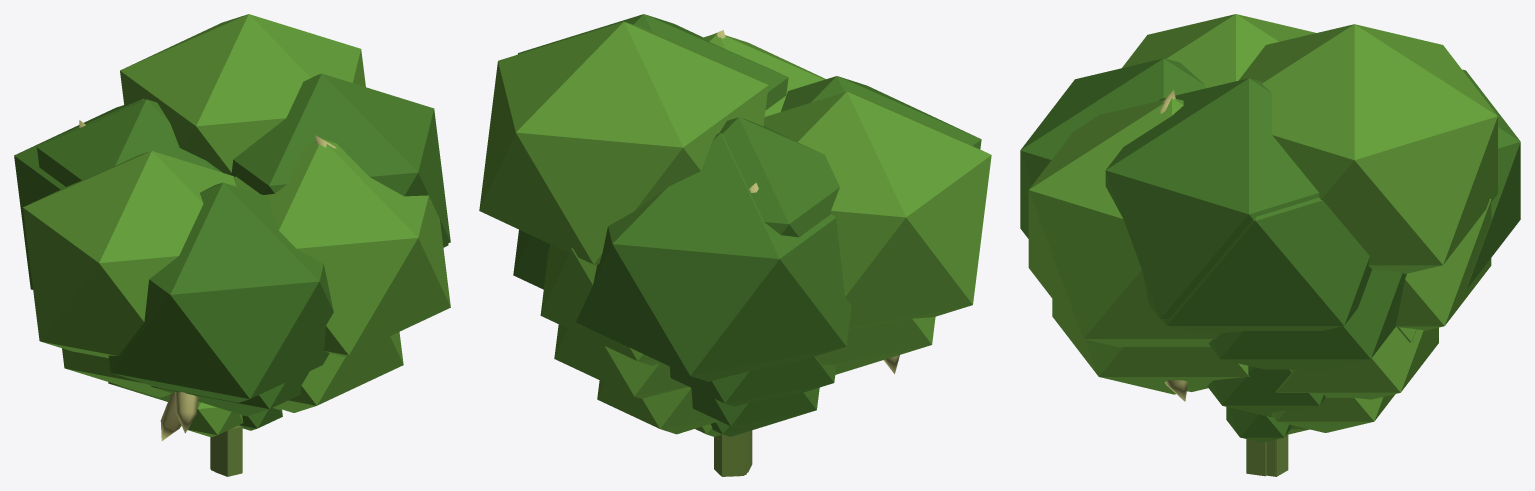
The model's file is Crop_Veg_Lentil.fbx.
3 views of the same model, side by side, from view 1: azimuth 30°, elevation 25°; view 2: azimuth 150°, elevation 25°; view 3: azimuth 270°, elevation 25° (orthographic). The views are drawn at different scales.
Parts seen in each view (by area): view 1: Crop_Veg_Lentil__S4, Crop_Veg_Lentil__S3, Crop_Veg_Lentil__S1; view 2: Crop_Veg_Lentil__S4, Crop_Veg_Lentil__S3, Crop_Veg_Lentil__S5, Crop_Veg_Lentil__S2, Crop_Veg_Lentil__S1; view 3: Crop_Veg_Lentil__S4, Crop_Veg_Lentil__S3, Crop_Veg_Lentil__S5, Crop_Veg_Lentil__S2, Crop_Veg_Lentil__S1.
Part boxes in pixels (x1,y1,x2,y2): Crop_Veg_Lentil__S4: [14, 14, 450, 471]; Crop_Veg_Lentil__S3: [37, 99, 403, 416]; Crop_Veg_Lentil__S1: [187, 401, 282, 476]; Crop_Veg_Lentil__S4: [479, 14, 991, 474]; Crop_Veg_Lentil__S3: [513, 117, 935, 374]; Crop_Veg_Lentil__S5: [554, 324, 836, 476]; Crop_Veg_Lentil__S2: [597, 380, 819, 475]; Crop_Veg_Lentil__S1: [695, 421, 752, 472]; Crop_Veg_Lentil__S4: [1020, 14, 1520, 401]; Crop_Veg_Lentil__S3: [1052, 199, 1491, 476]; Crop_Veg_Lentil__S5: [1188, 327, 1438, 476]; Crop_Veg_Lentil__S2: [1207, 366, 1395, 432]; Crop_Veg_Lentil__S1: [1226, 407, 1309, 476].
Bounding box in the file's own units: 0.1564 × 0.1537 × 0.1455.
